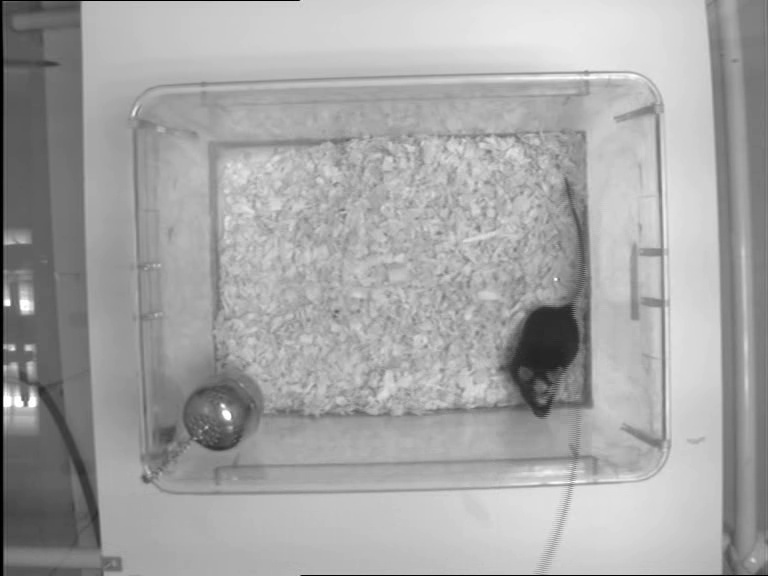mice: (498, 177, 588, 420)
